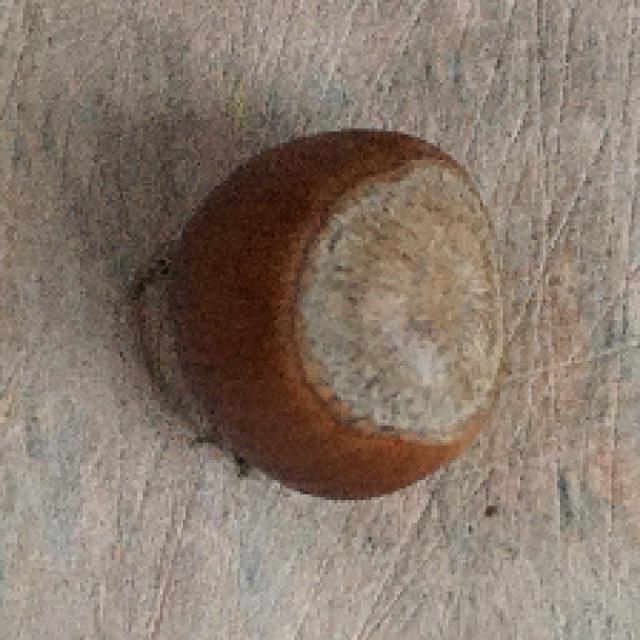DamagedHazelnut: (148, 124, 509, 498)
